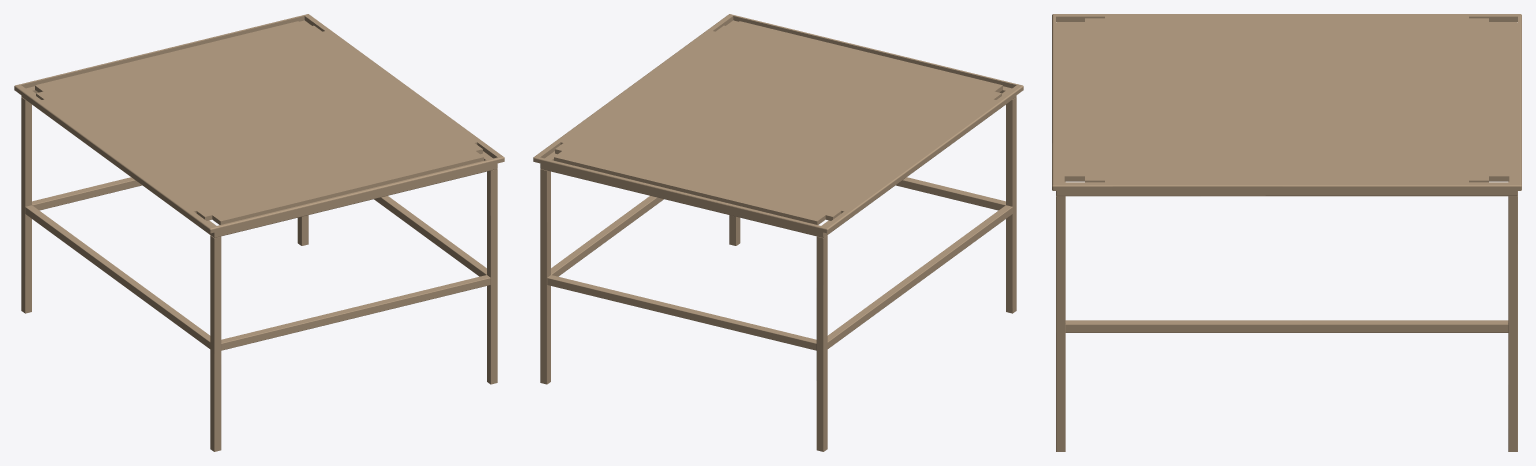
Rendered from table.glb.
The picture shows the model from 3 angles, left to right: view 1: azimuth 30°, elevation 25°; view 2: azimuth 150°, elevation 25°; view 3: azimuth 270°, elevation 25°; orthographic projection. The views are drawn at different scales.
Visible parts, largest first — view 1: Mesh_Mesh_head_geo.001_lambert2SG.001; view 2: Mesh_Mesh_head_geo.001_lambert2SG.001; view 3: Mesh_Mesh_head_geo.001_lambert2SG.001.
Boxes of the visible parts, box(x1,y1,x2,y2) form: Mesh_Mesh_head_geo.001_lambert2SG.001: box(14, 14, 504, 451); Mesh_Mesh_head_geo.001_lambert2SG.001: box(533, 14, 1023, 451); Mesh_Mesh_head_geo.001_lambert2SG.001: box(1052, 14, 1521, 451).
Bounding box in the file's own units: 0.6604 × 0.4826 × 0.762.
